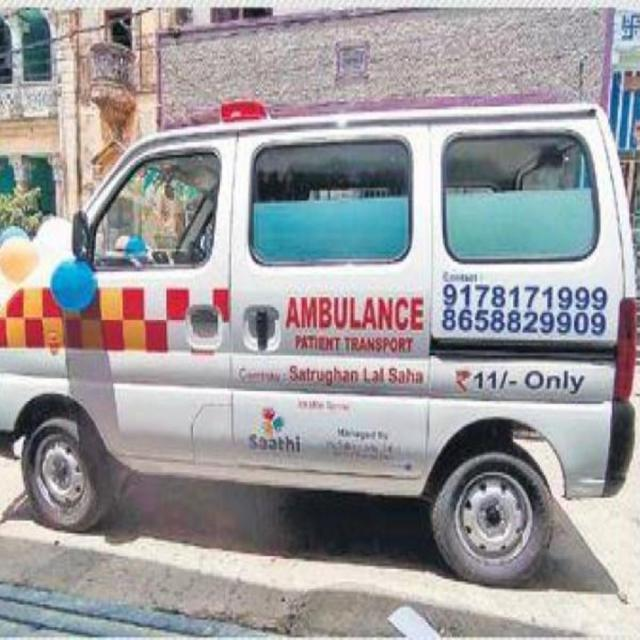ambulance: (0, 80, 640, 590)
